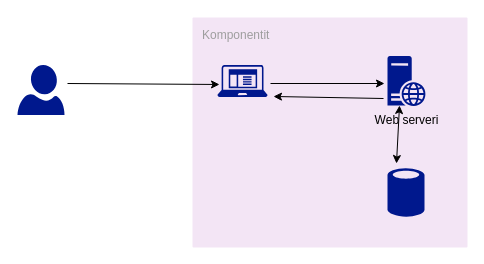
The diagram is 484 pixels wide and 264 high, and some of its shapes have lost their labels. The shapes that lost their labels are listed below. From the top down, each one's box as (x1, y1, x2, y2) in pixels, then its label:
(217, 64, 267, 96): Käyttöliittymä
(387, 167, 424, 217): Tietokanta
